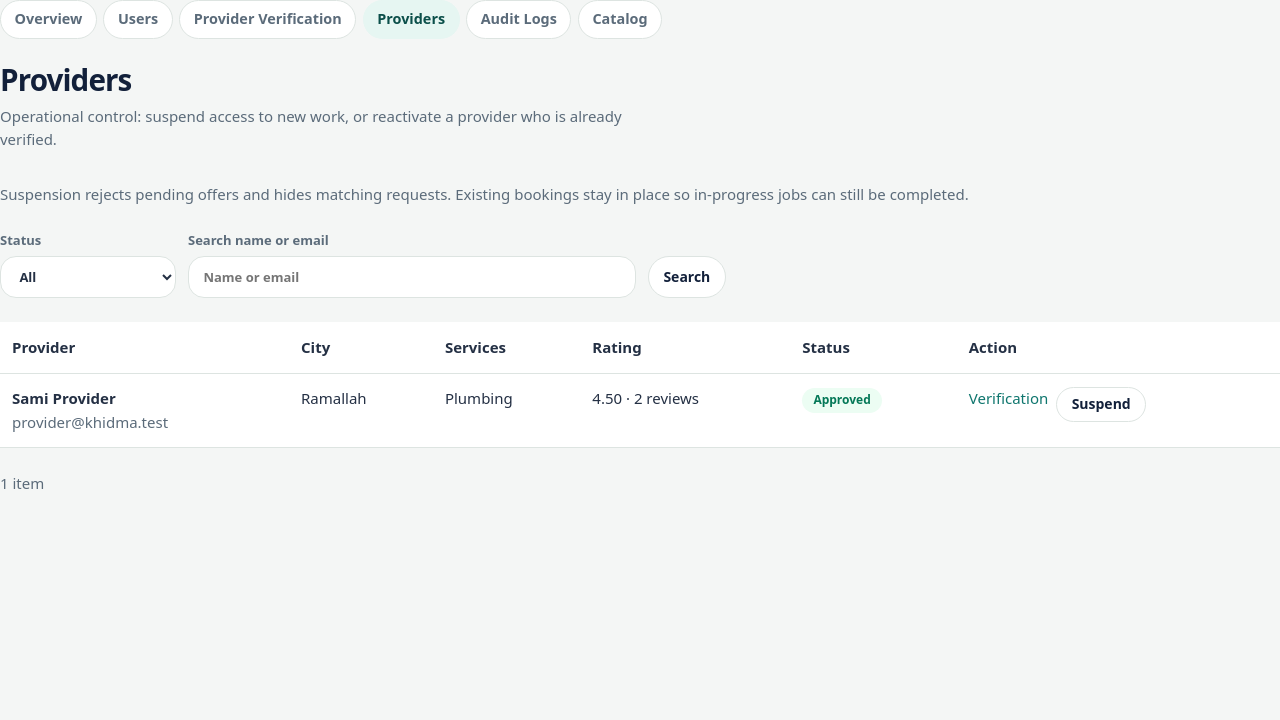
Scenario: AdminProvidersPage › requires a reason before suspending a provider
This screenshot has width=1280, height=720.
What coordinates should you click on to do the following:
click the button "Suspend"
I would click on:
 (1101, 405)
Its box is [1056,387,1146,422].
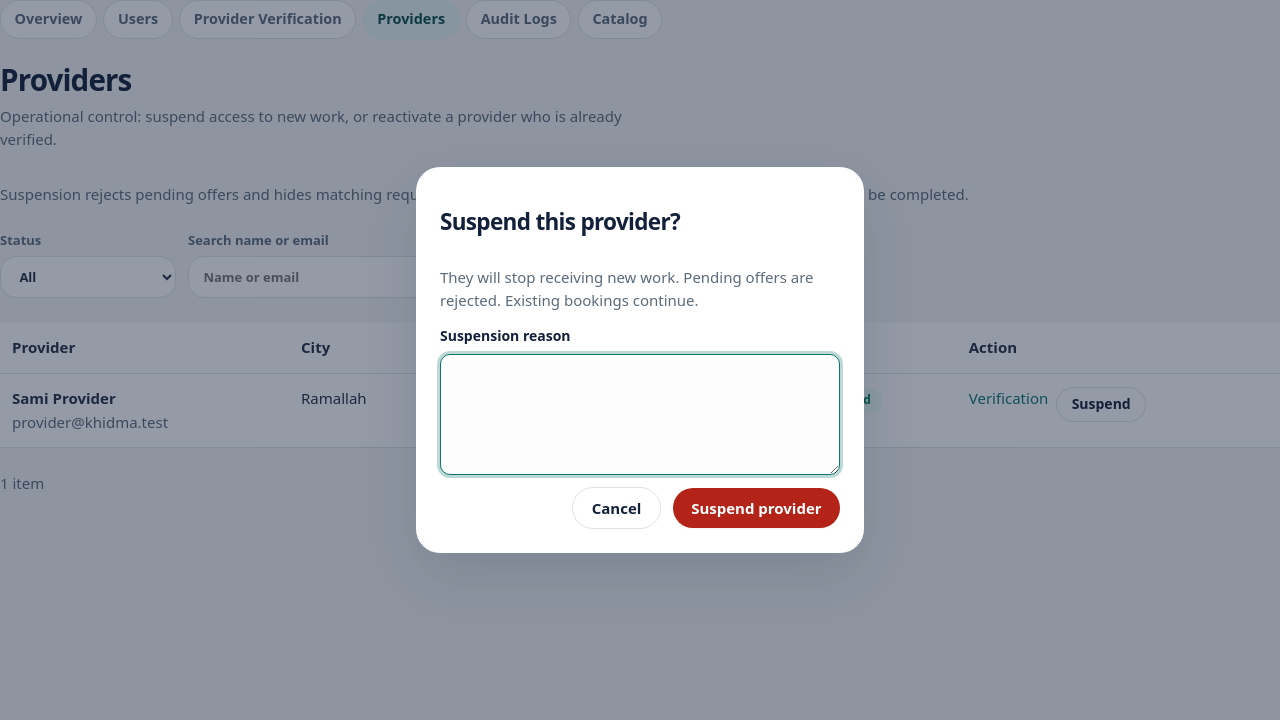
What coordinates should you click on to do the following:
click the button "Suspend provider"
I would click on:
 (756, 508)
Its box is [673,488,840,528].
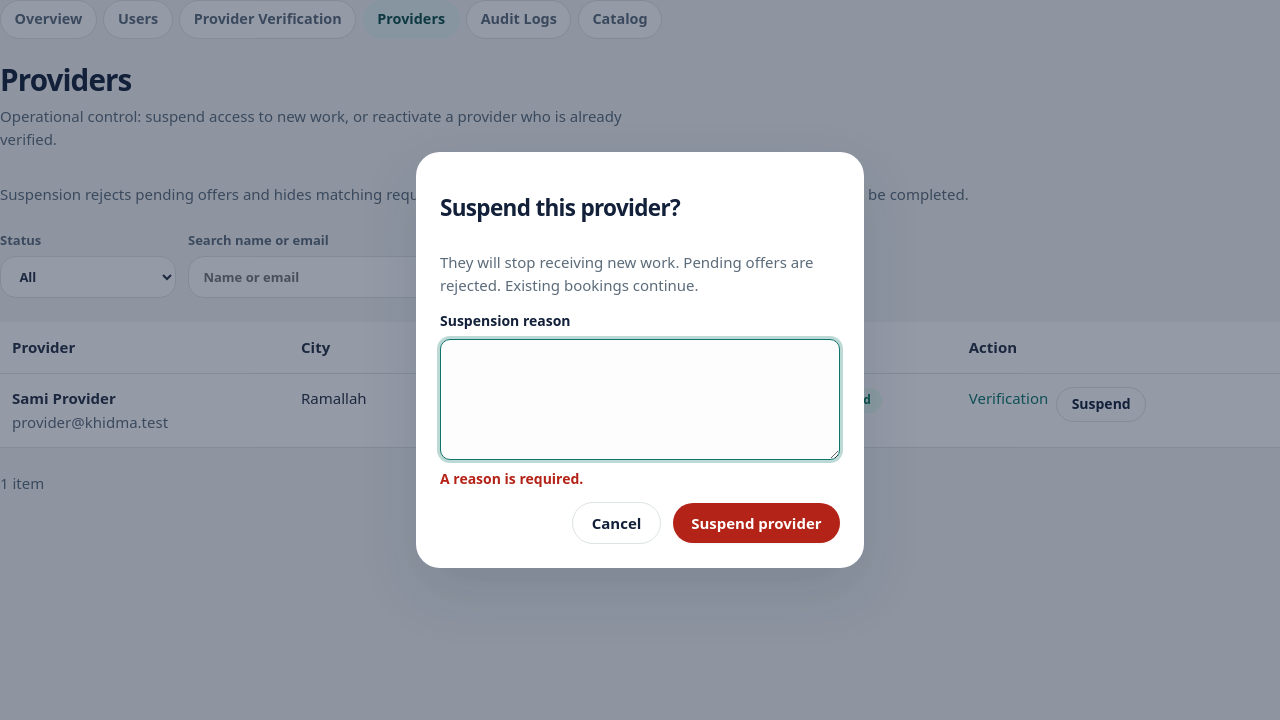
Check: the message reads "A reason is required.", box [440,469,583,488]
